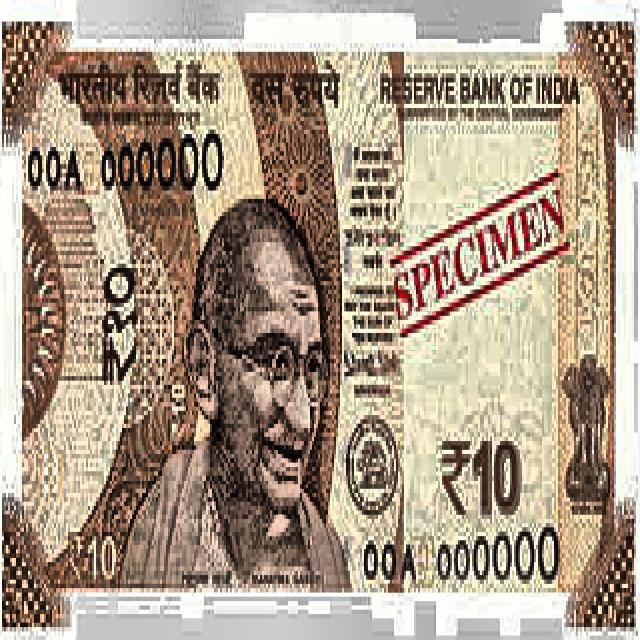-10-: (10, 40, 619, 596)
